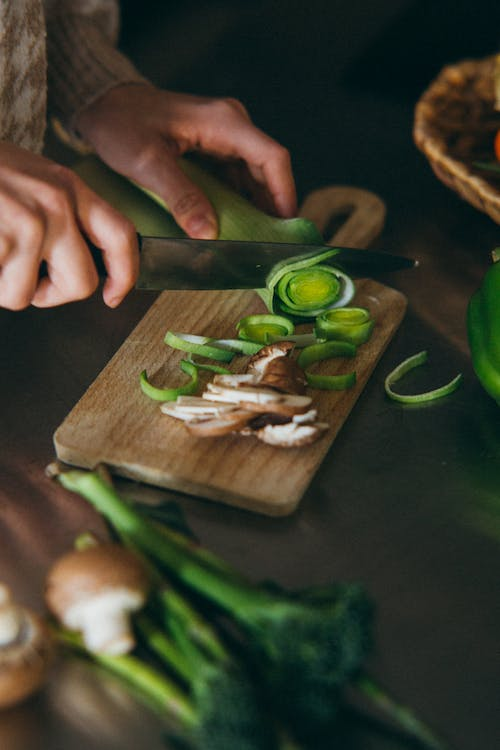knife: (133, 228, 428, 292)
